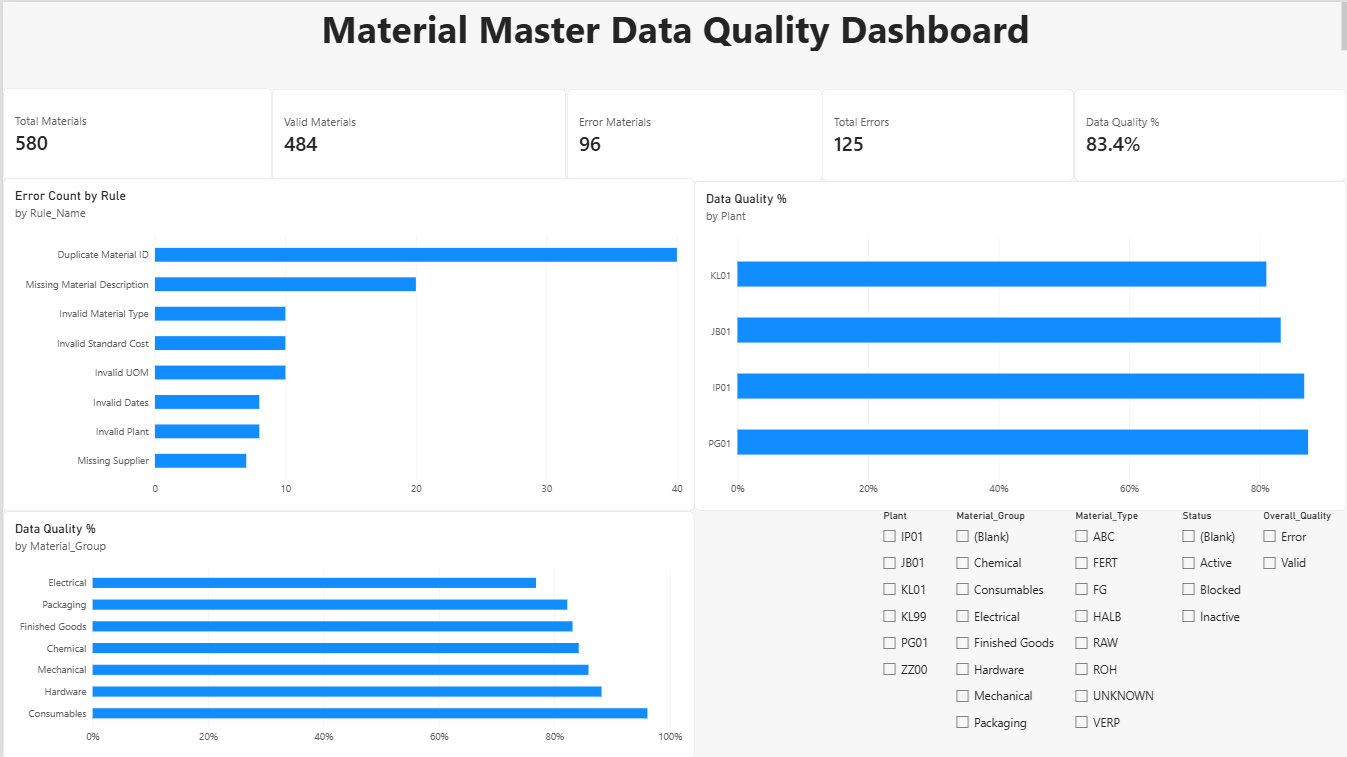

Layout of this report page (visuals, bound fields, positions):
{"tool":"powerbi","page":{"name":"Executive Overview","canvas":[1920,1080],"ordinal":0},"visuals":[{"type":"textbox","box":[10.2,0,1909.8,70],"z":0},{"type":"cardVisual","fields":{"Data":["MaterialQuality.Total Materials"]},"box":[0,122.2,384.7,132],"z":1000},{"type":"cardVisual","fields":{"Data":["MaterialQuality.Valid Materials"]},"box":[384.7,123.9,420.5,132],"z":2000},{"type":"cardVisual","fields":{"Data":["MaterialQuality.Error Materials"]},"box":[805.2,123.9,365.1,132],"z":3000},{"type":"cardVisual","fields":{"Data":["MaterialQuality.Data Quality %"]},"box":[1530.5,123.9,389.5,132],"z":4000},{"type":"cardVisual","fields":{"Data":["MaterialQuality.Total Errors"]},"box":[1170.3,123.9,360.2,132],"z":5000},{"type":"clusteredBarChart","fields":{"Category":["MaterialQuality.Plant"],"Y":["MaterialQuality.Data Quality %"]},"box":[987.7,255.9,932.3,471],"z":6000},{"type":"clusteredBarChart","fields":{"Category":["MaterialQuality.Material_Group"],"Y":["MaterialQuality.Data Quality %"]},"box":[0,726.9,987.7,353.7],"z":7000},{"type":"clusteredBarChart","fields":{"Category":["DQ_Rules.Rule_Name"],"Y":["DQ_Rules.Error Count by Rule"]},"box":[0,251,987.7,475.9],"z":8000},{"type":"slicer","fields":{"Values":["MaterialQuality.Plant"]},"box":[1250.1,726.3,104.3,353.7],"z":9000},{"type":"slicer","fields":{"Values":["MaterialQuality.Material_Group"]},"box":[1354.4,726.3,169.5,353.7],"z":10000},{"type":"slicer","fields":{"Values":["MaterialQuality.Material_Type"]},"box":[1523.9,726.3,151.6,353.7],"z":11000},{"type":"slicer","fields":{"Values":["MaterialQuality.Status"]},"box":[1677.1,726.3,115.7,353.7],"z":12000},{"type":"slicer","fields":{"Values":["MaterialQuality.Overall_Quality"]},"box":[1792.9,726.3,127.1,353.7],"z":13000}]}

Visuals, with their boxes in screenshot pixels (x1, y1, x2, y2), scaled from the page's 1920x1080 canvas onto the 1347x757 screenshot:
textbox: <region>7, 0, 1346, 49</region>
cardVisual - MaterialQuality.Total Materials: <region>0, 86, 270, 178</region>
cardVisual - MaterialQuality.Valid Materials: <region>270, 87, 565, 179</region>
cardVisual - MaterialQuality.Error Materials: <region>565, 87, 821, 179</region>
cardVisual - MaterialQuality.Data Quality %: <region>1074, 87, 1346, 179</region>
cardVisual - MaterialQuality.Total Errors: <region>821, 87, 1074, 179</region>
clusteredBarChart - MaterialQuality.Plant x MaterialQuality.Data Quality %: <region>693, 179, 1346, 510</region>
clusteredBarChart - MaterialQuality.Material_Group x MaterialQuality.Data Quality %: <region>0, 510, 693, 756</region>
clusteredBarChart - DQ_Rules.Rule_Name x DQ_Rules.Error Count by Rule: <region>0, 176, 693, 510</region>
slicer - MaterialQuality.Plant: <region>877, 509, 950, 756</region>
slicer - MaterialQuality.Material_Group: <region>950, 509, 1069, 756</region>
slicer - MaterialQuality.Material_Type: <region>1069, 509, 1175, 756</region>
slicer - MaterialQuality.Status: <region>1177, 509, 1258, 756</region>
slicer - MaterialQuality.Overall_Quality: <region>1258, 509, 1346, 756</region>
